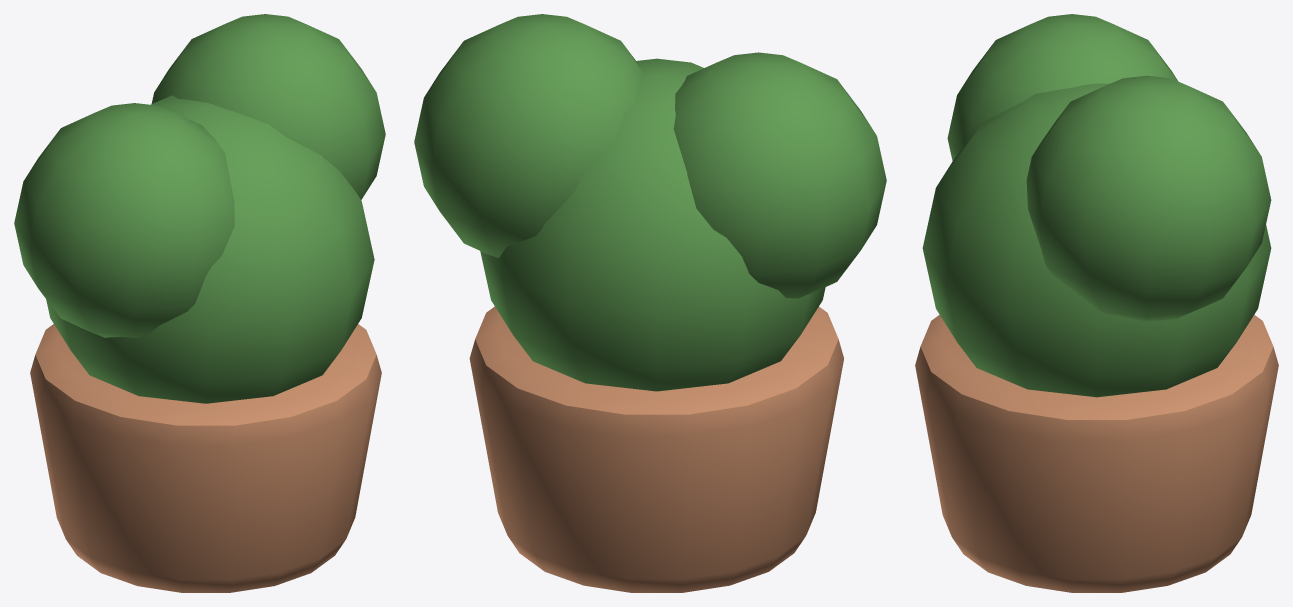
File: desk_plant.glb
3 views of the same model, side by side, from view 1: azimuth 30°, elevation 25°; view 2: azimuth 150°, elevation 25°; view 3: azimuth 270°, elevation 25° (orthographic). The views are drawn at different scales.
Visible parts, largest first — view 1: leaf, pot; view 2: leaf, pot; view 3: leaf, pot.
Boxes of the visible parts, <box> form: leaf: <box>14,14,385,403</box>; pot: <box>30,324,381,592</box>; leaf: <box>414,14,886,391</box>; pot: <box>469,306,843,592</box>; leaf: <box>922,14,1271,397</box>; pot: <box>915,315,1278,592</box>.
Size of the model in its own units: 0.18 by 0.22 by 0.1461.
